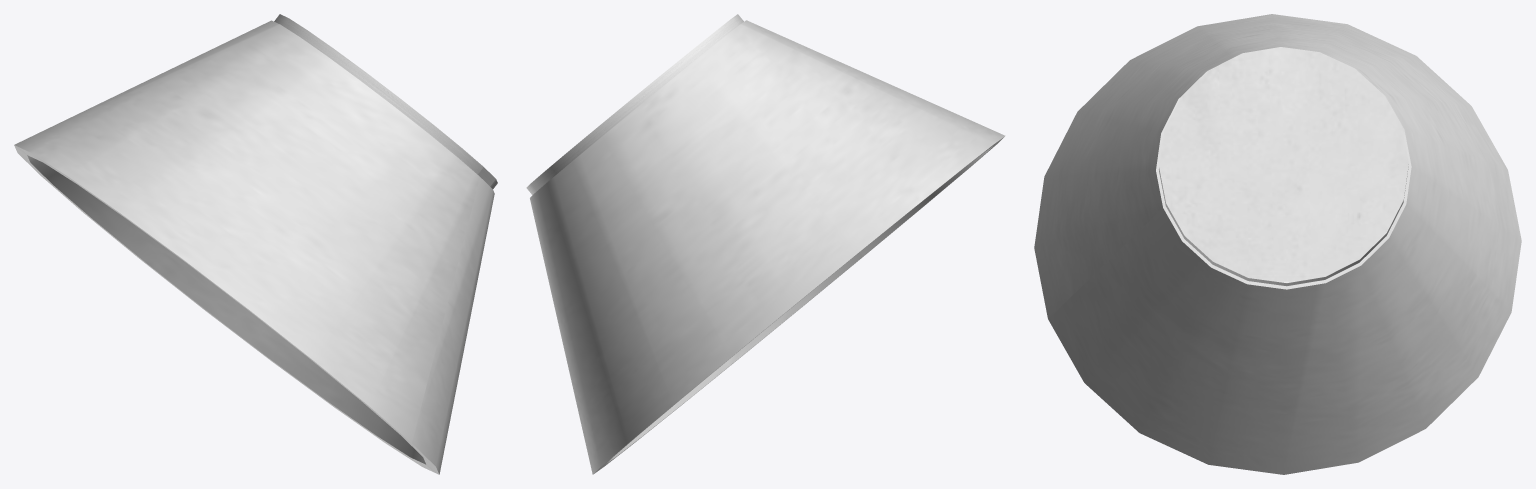
The model's file is ConoLampara.obj.
3 views of the same model, side by side, from view 1: azimuth 30°, elevation 25°; view 2: azimuth 150°, elevation 25°; view 3: azimuth 270°, elevation 25° (orthographic). The views are drawn at different scales.
Parts seen in each view (by area): view 1: ConoLampara1:pCylinder17; view 2: ConoLampara1:pCylinder17; view 3: ConoLampara1:pCylinder17.
Part boxes in pixels (x1,y1,x2,y2): ConoLampara1:pCylinder17: (14,14,497,474); ConoLampara1:pCylinder17: (526,14,1005,474); ConoLampara1:pCylinder17: (1034,14,1521,474).
Bounding box in the file's own units: 1.76 × 1.78 × 2.
